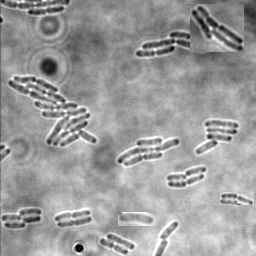Dividing: (167, 175, 204, 189), (99, 238, 128, 255), (54, 209, 90, 222), (220, 192, 254, 205), (56, 217, 92, 228), (27, 7, 64, 17)
Microcolony: (7, 76, 98, 147), (190, 4, 244, 52), (117, 137, 180, 168), (135, 32, 211, 57), (195, 120, 238, 155), (1, 208, 42, 229), (118, 212, 157, 226)
Rod: (106, 233, 135, 251), (157, 222, 178, 240), (184, 167, 206, 177), (166, 174, 187, 183)
